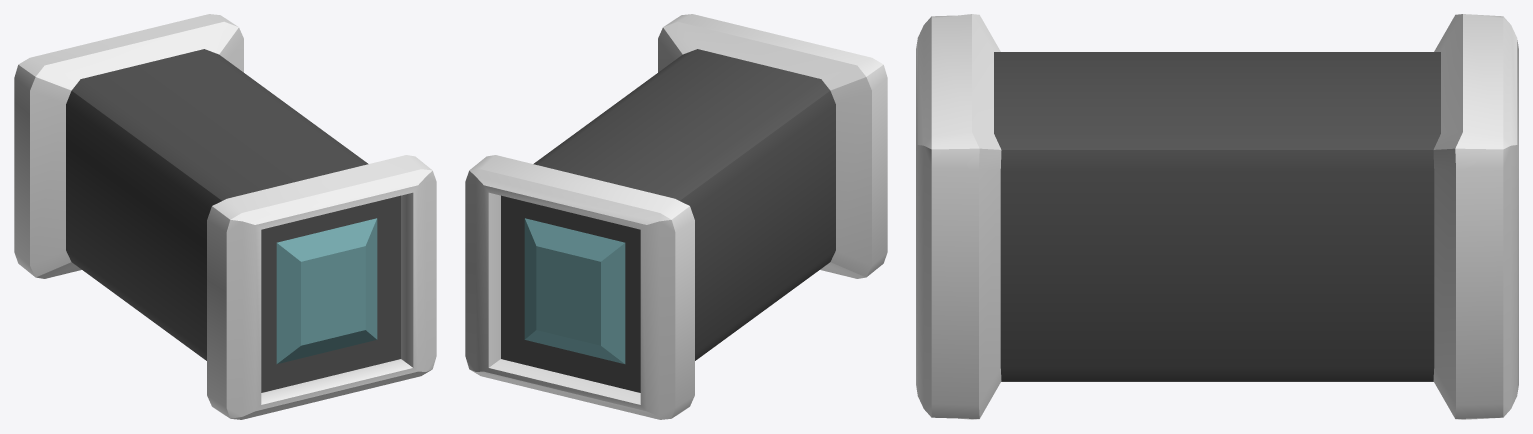
The picture shows the model from 3 angles, left to right: view 1: azimuth 30°, elevation 25°; view 2: azimuth 150°, elevation 25°; view 3: azimuth 270°, elevation 25°; orthographic projection. The views are drawn at different scales.
Visible parts, largest first — view 1: Plane003.006; view 2: Plane003.006; view 3: Plane003.006.
Boxes of the visible parts, <box> form: Plane003.006: <box>14,14,436,419</box>; Plane003.006: <box>465,14,887,419</box>; Plane003.006: <box>916,14,1518,419</box>.
Bounding box in the file's own units: 49.09 × 46.81 × 88.84.
